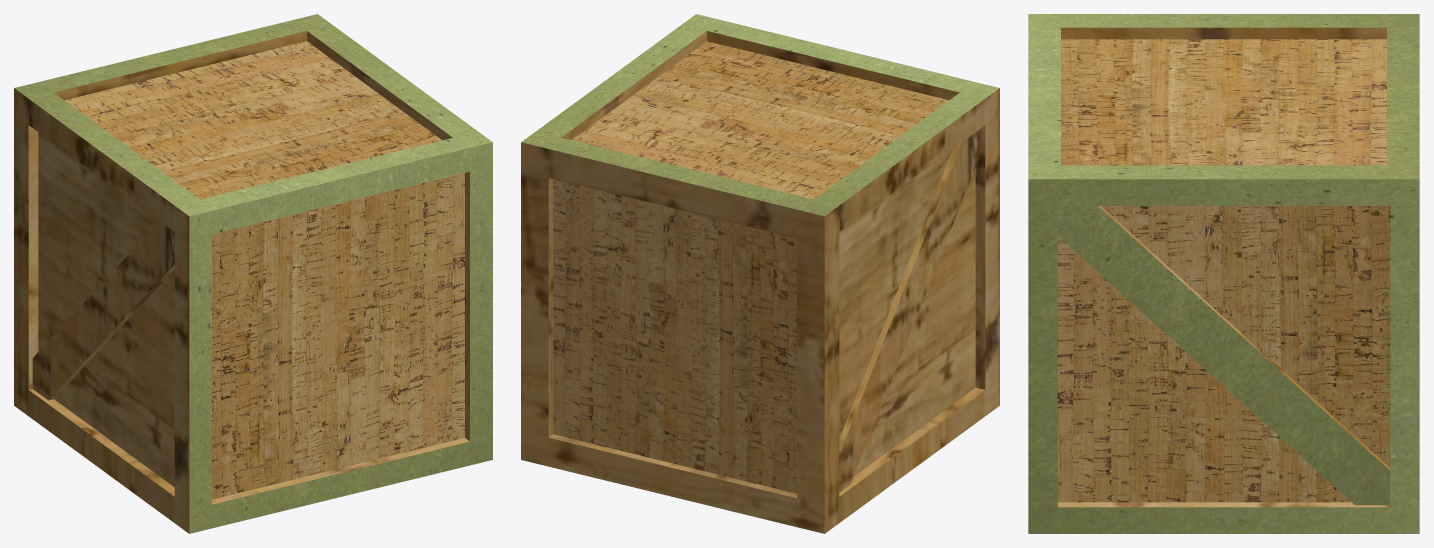
Rendered from YASHILV2.fbx.
3 renders of one model, left to right at view 1: azimuth 30°, elevation 25°; view 2: azimuth 150°, elevation 25°; view 3: azimuth 270°, elevation 25°, orthographic. The views are drawn at different scales.
Parts seen in each view (by area): view 1: Boxes.004; view 2: Boxes.004; view 3: Boxes.004.
Part boxes in pixels (left/top/right/bottom): Boxes.004: left=14, top=14, right=492, bottom=533; Boxes.004: left=521, top=14, right=999, bottom=533; Boxes.004: left=1028, top=14, right=1419, bottom=533.
Size of the model in its own units: 396 by 396 by 396.
2 materials, 2 textured.
